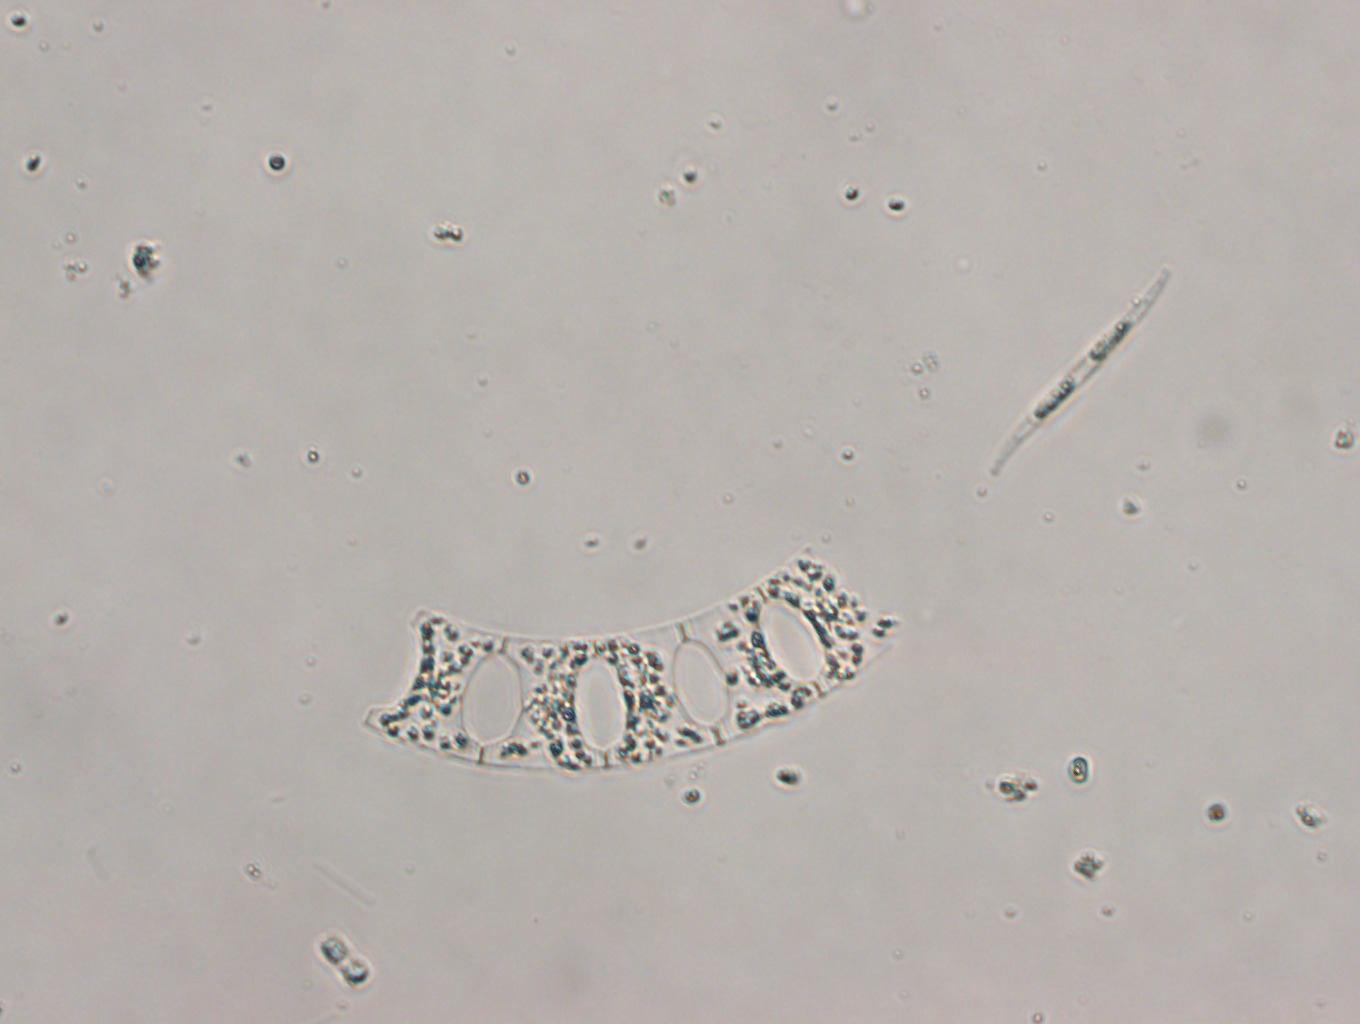eucampia: (361, 552, 910, 776)
pleurosigma pelagicum: (985, 261, 1176, 488)
